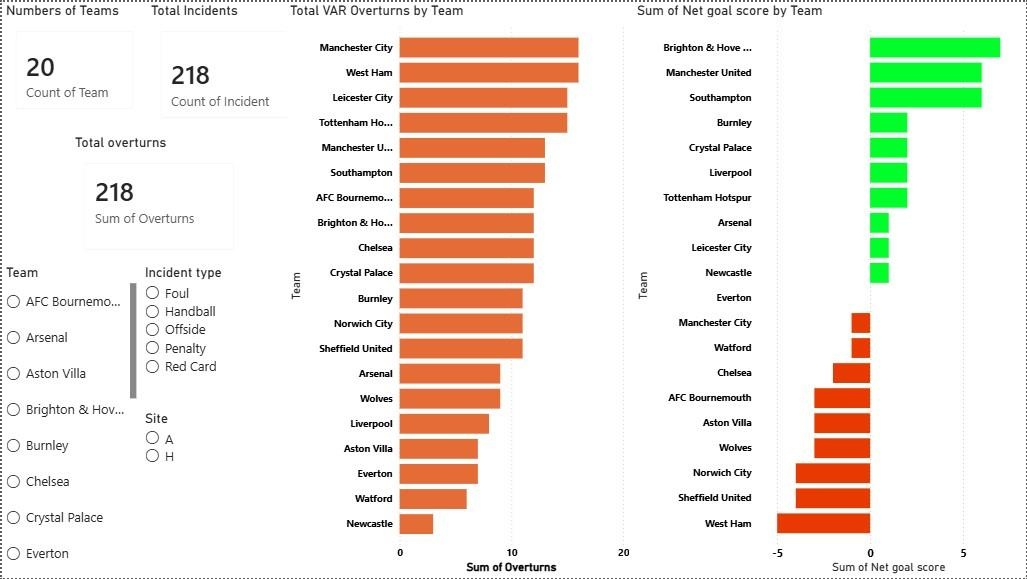

The dashboard page shown, as its layout file describes it:
{"tool":"powerbi","page":{"name":"overview","canvas":[1280,720],"ordinal":0},"visuals":[{"type":"cardVisual","title":"Total Incidents","fields":{"Data":["CountNonNull(VAR_Incidents_Stats.Incident)"]},"box":[181.7,0,223,162.4],"z":0},{"type":"cardVisual","title":"Total overturns","fields":{"Data":["Sum(VAR_Team_Stats.Overturns)"]},"box":[86.7,165.2,221.6,162.4],"z":1000},{"type":"cardVisual","title":"Numbers of Teams","fields":{"Data":["Count(VAR_Team_Stats.Team)"]},"box":[0,0,181.7,151.4],"z":2000},{"type":"clusteredBarChart","title":"Total VAR Overturns by Team","fields":{"Category":["VAR_Team_Stats.Team"],"Y":["Sum(VAR_Team_Stats.Overturns)"]},"box":[355.1,0,433.5,719.8],"z":3000},{"type":"clusteredBarChart","fields":{"Category":["VAR_Team_Stats.Team"],"Y":["Sum(VAR_Team_Stats.Net goal score)"]},"box":[788.6,0,491.4,719.8],"z":4000},{"type":"listSlicer","fields":{"Values":["VAR_Team_Stats.Team"]},"box":[0,327.6,173.4,392.3],"z":5000},{"type":"listSlicer","fields":{"Values":["VAR_Incidents_Stats.Incident type"]},"box":[173.4,327.6,173.4,213.3],"z":6000},{"type":"listSlicer","fields":{"Values":["VAR_Incidents_Stats.Site"]},"box":[173.4,510.6,122.5,206.5],"z":7000}]}

Visuals, with their boxes in screenshot pixels (x1, y1, x2, y2), scaled from the page's 1280x720 canvas onto the 1027x579 screenshot:
"Total Incidents" cardVisual: (x1=146, y1=0, x2=325, y2=131)
"Total overturns" cardVisual: (x1=70, y1=133, x2=247, y2=263)
"Numbers of Teams" cardVisual: (x1=0, y1=0, x2=146, y2=122)
"Total VAR Overturns by Team" clusteredBarChart: (x1=285, y1=0, x2=633, y2=578)
clusteredBarChart - VAR_Team_Stats.Team x Sum(VAR_Team_Stats.Net goal score): (x1=633, y1=0, x2=1026, y2=578)
listSlicer - VAR_Team_Stats.Team: (x1=0, y1=263, x2=139, y2=578)
listSlicer - VAR_Incidents_Stats.Incident type: (x1=139, y1=263, x2=278, y2=435)
listSlicer - VAR_Incidents_Stats.Site: (x1=139, y1=411, x2=237, y2=577)
